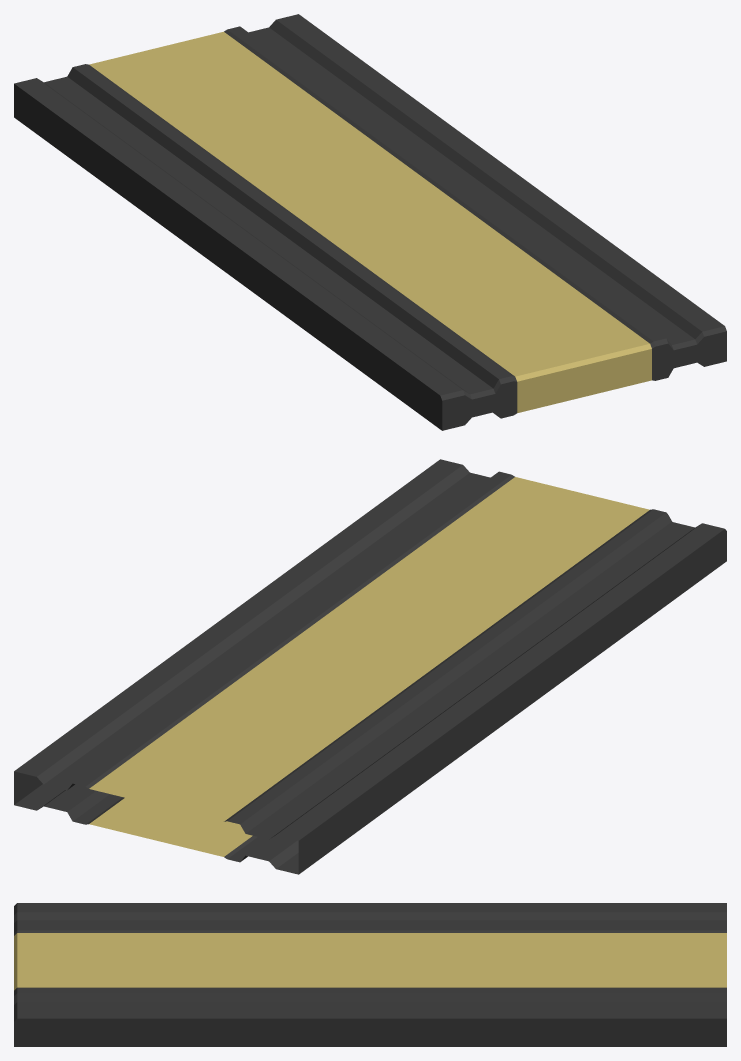
Rendered from BowlingLine_Main.fbx.
3 renders of one model, top to bottom at view 1: azimuth 30°, elevation 25°; view 2: azimuth 150°, elevation 25°; view 3: azimuth 270°, elevation 25°, orthographic. The views are drawn at different scales.
Parts seen in each view (by area): view 1: Side; view 2: Side; view 3: Side.
Boxes of the visible parts, box(x1,y1,x2,y2) form: Side: box(14, 14, 726, 430); Side: box(14, 459, 726, 874); Side: box(14, 903, 726, 1046).
Bounding box in the file's own units: 845 × 108 × 2200.
